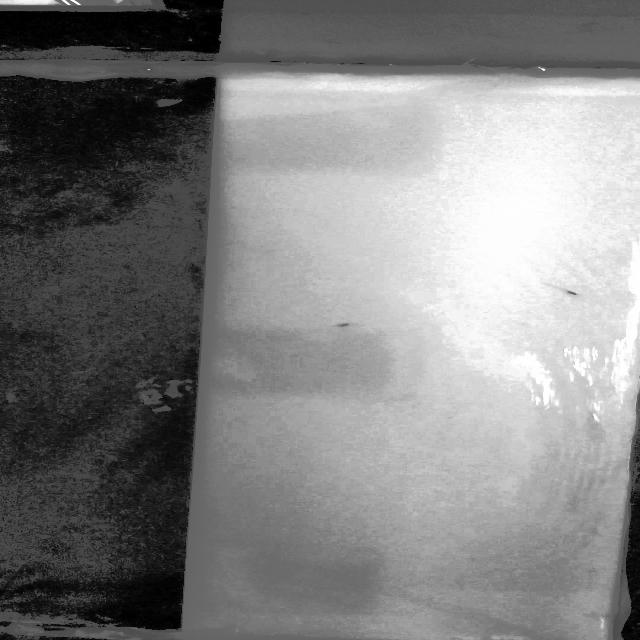shrimp: (537, 280, 598, 305), (313, 316, 368, 334)
